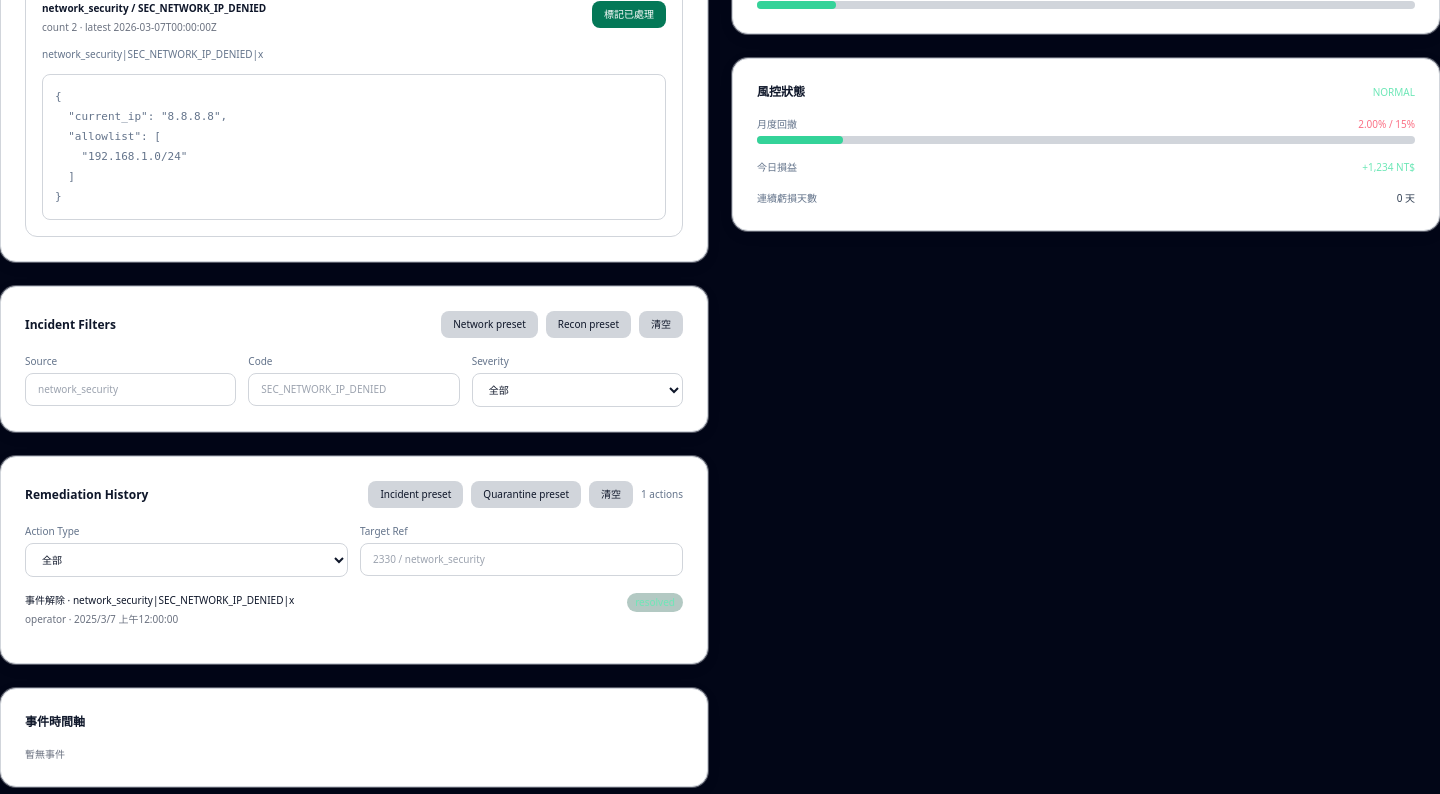
it: SystemPage › saves and loads operator filter snapshots
The width and height of the screenshot is (1440, 794).
(page scrolled)
Type "broker_reconciliation" into the field with placeholder "network_security".
click(131, 390); type("broker_reconciliation")  # box [25,373,236,406]
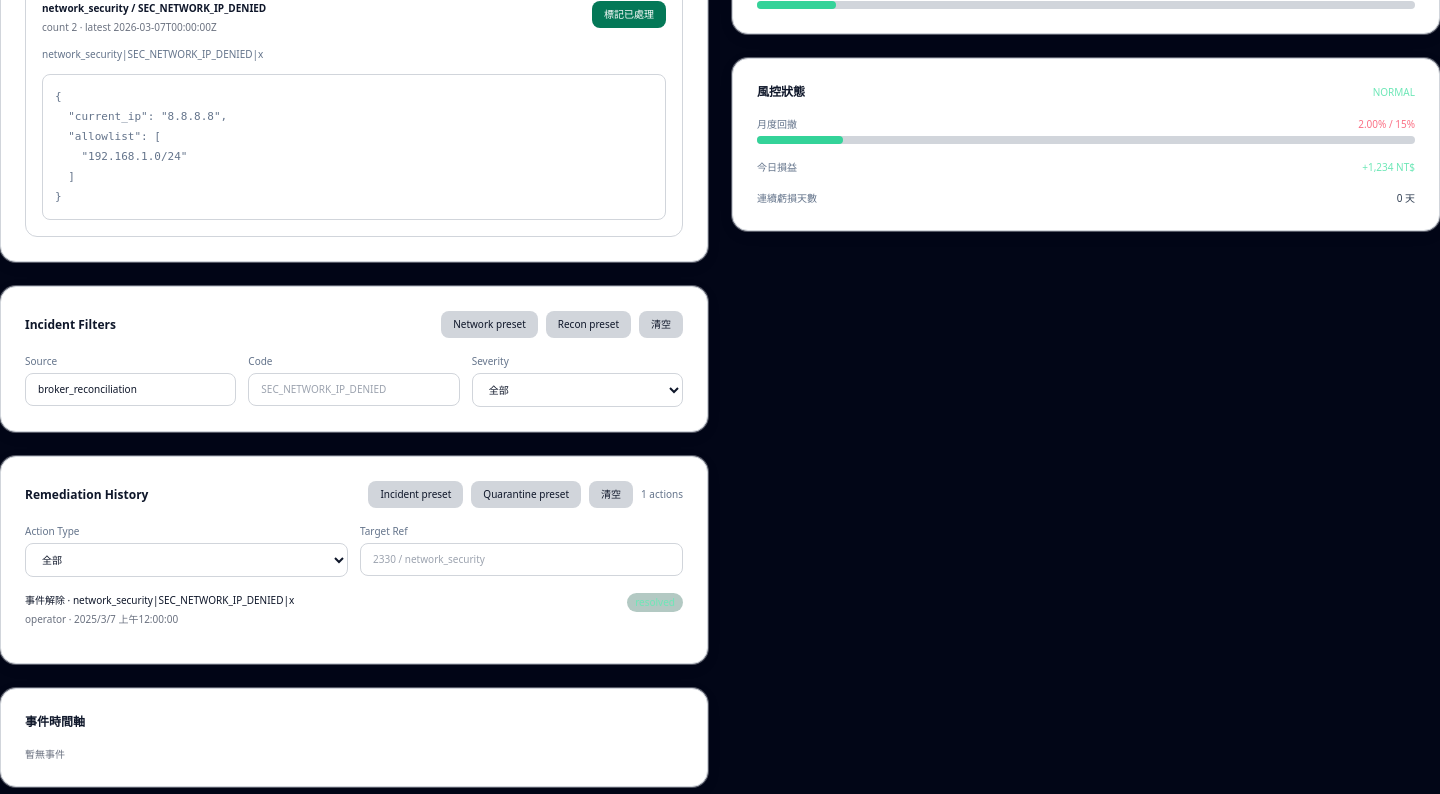
Type "2330" into the field with placeholder "2330 / network_security".
click(522, 560); type("2330")  # box [360,543,683,576]
(page scrolled)
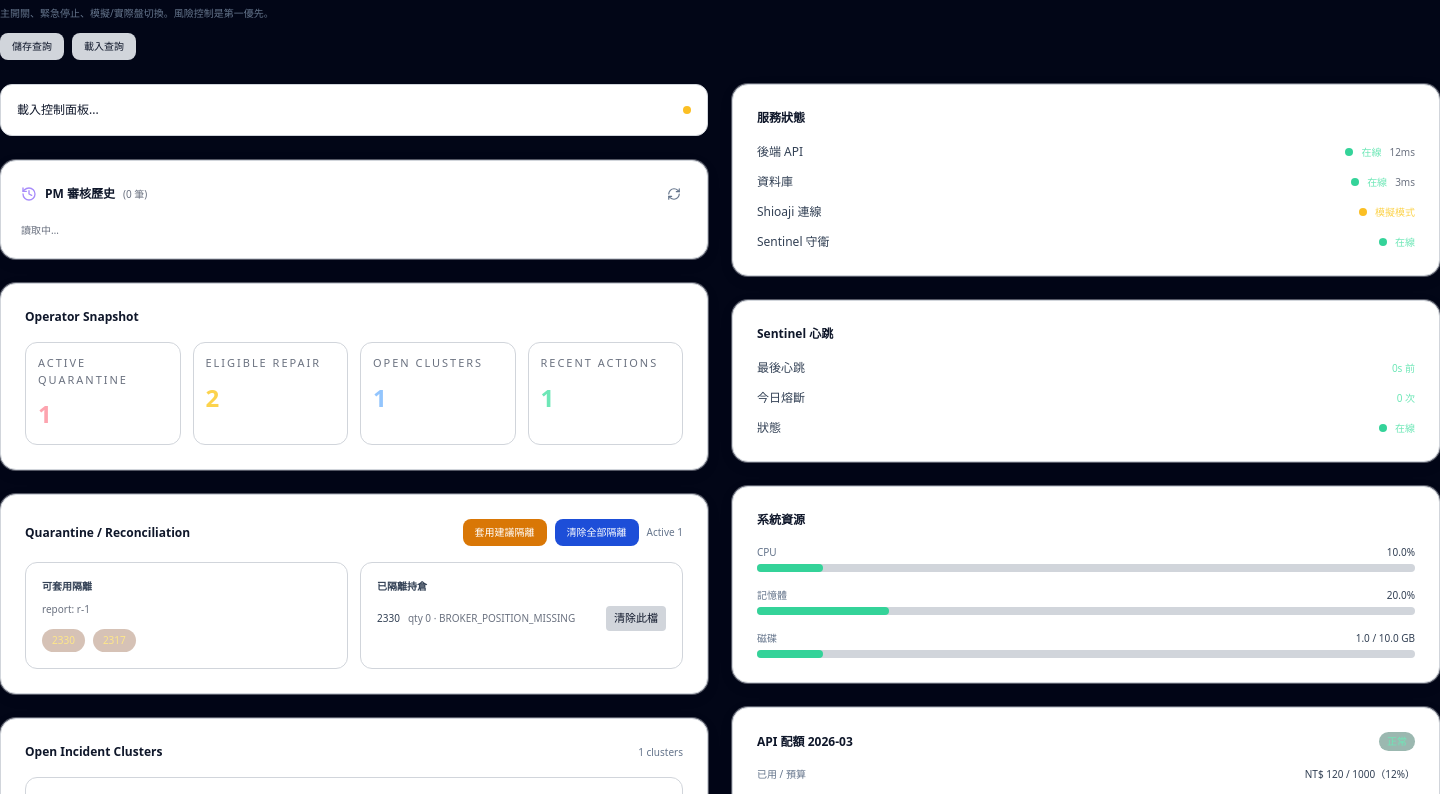
Click the button "儲存查詢".
click(32, 46)  # box [0,33,64,60]
(page scrolled)
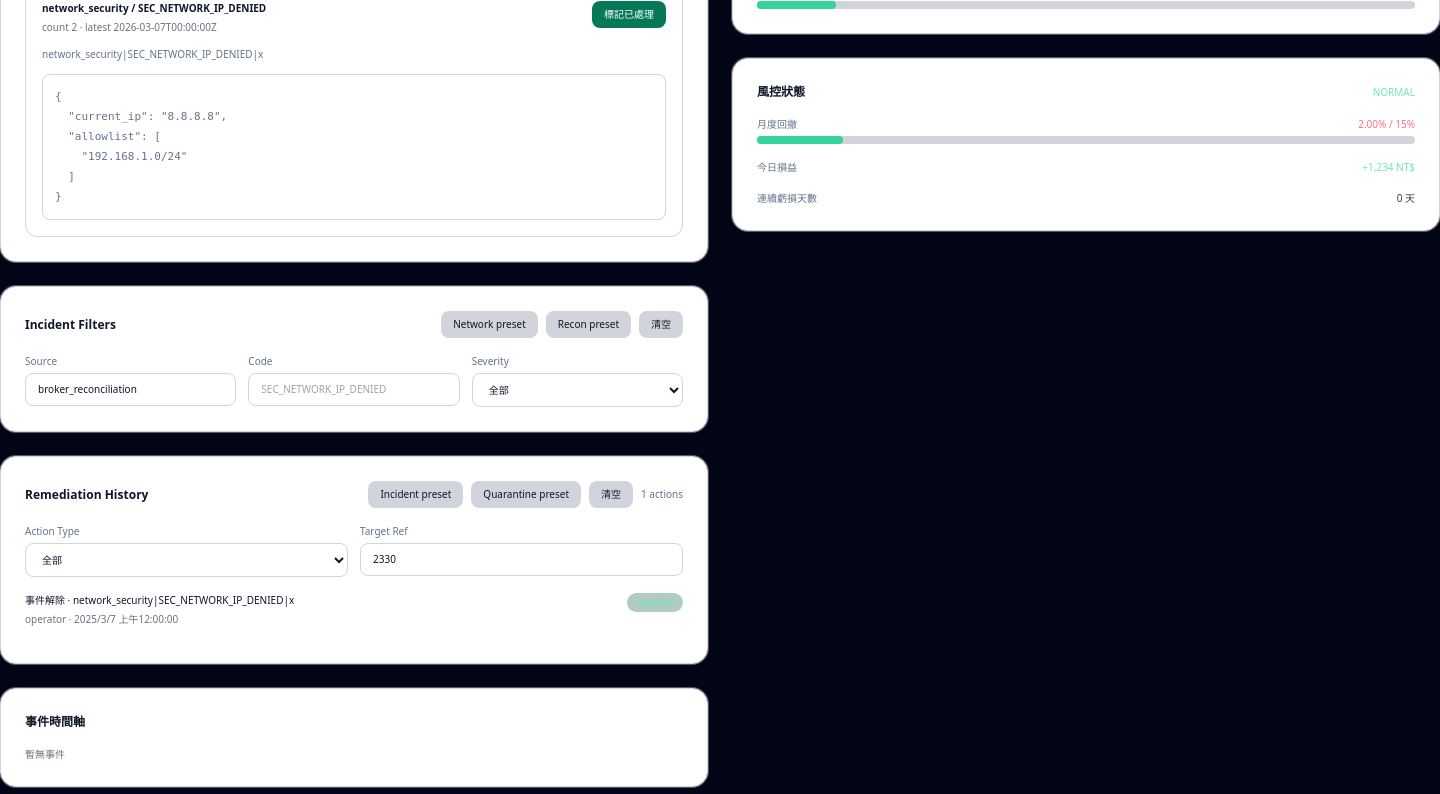
Clear the field with placeholder "network_security" at [131, 390], box [25,373,236,406]
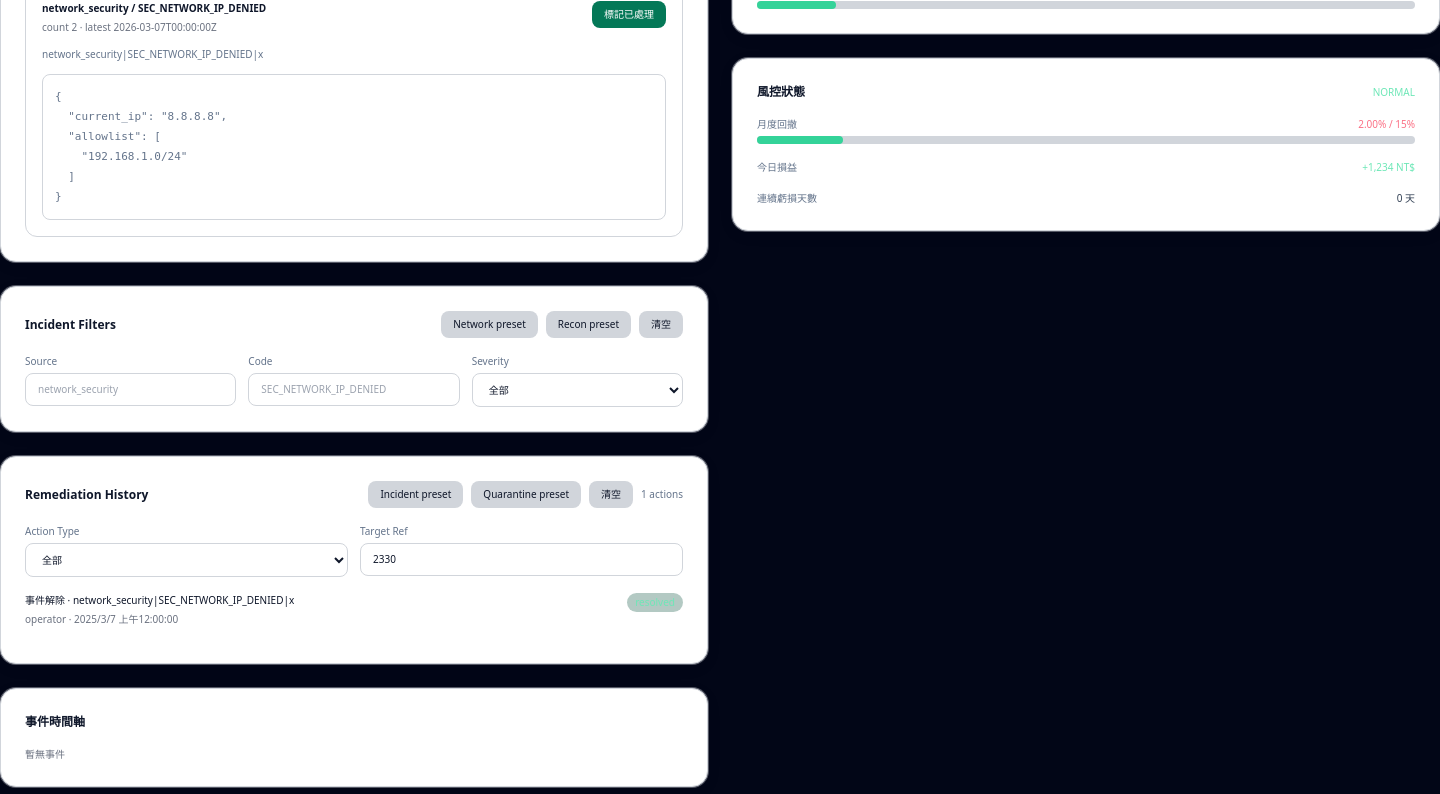
Clear the field with placeholder "2330 / network_security" at [522, 560], box [360,543,683,576]
(page scrolled)
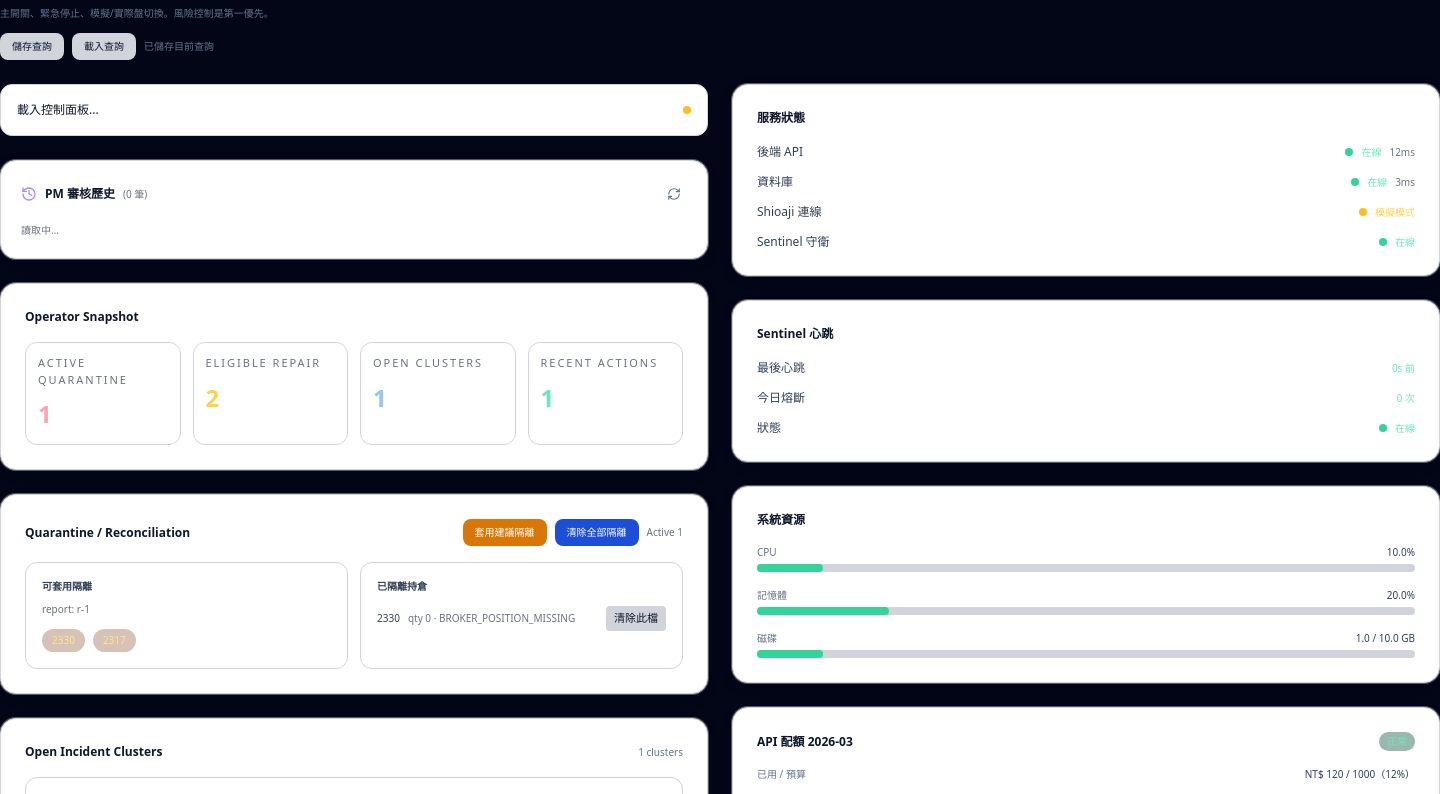
Click the button "載入查詢".
click(104, 46)  # box [72,33,136,60]
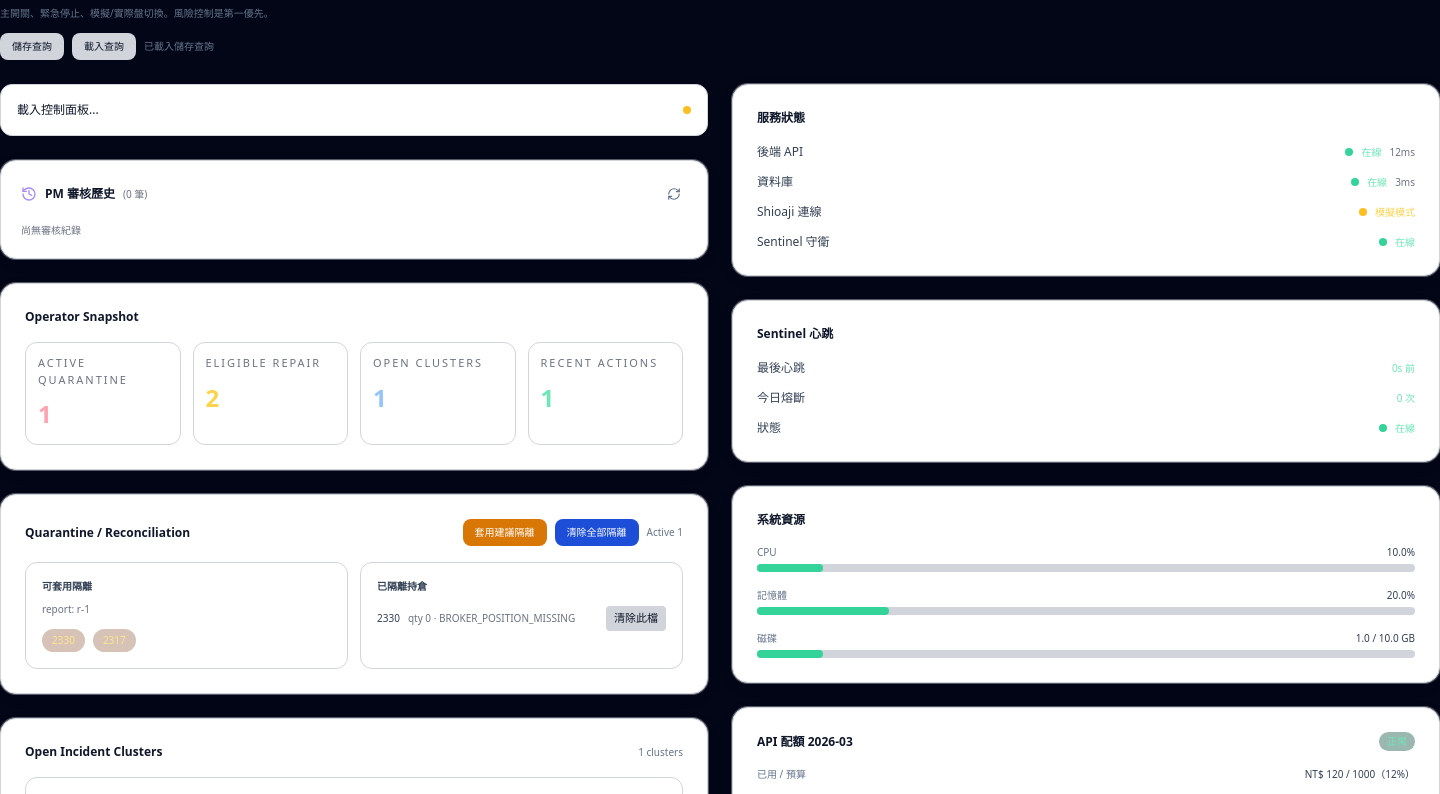
expect the text "已載入儲存查詢" is shown: met, box [144,39,214,54]
